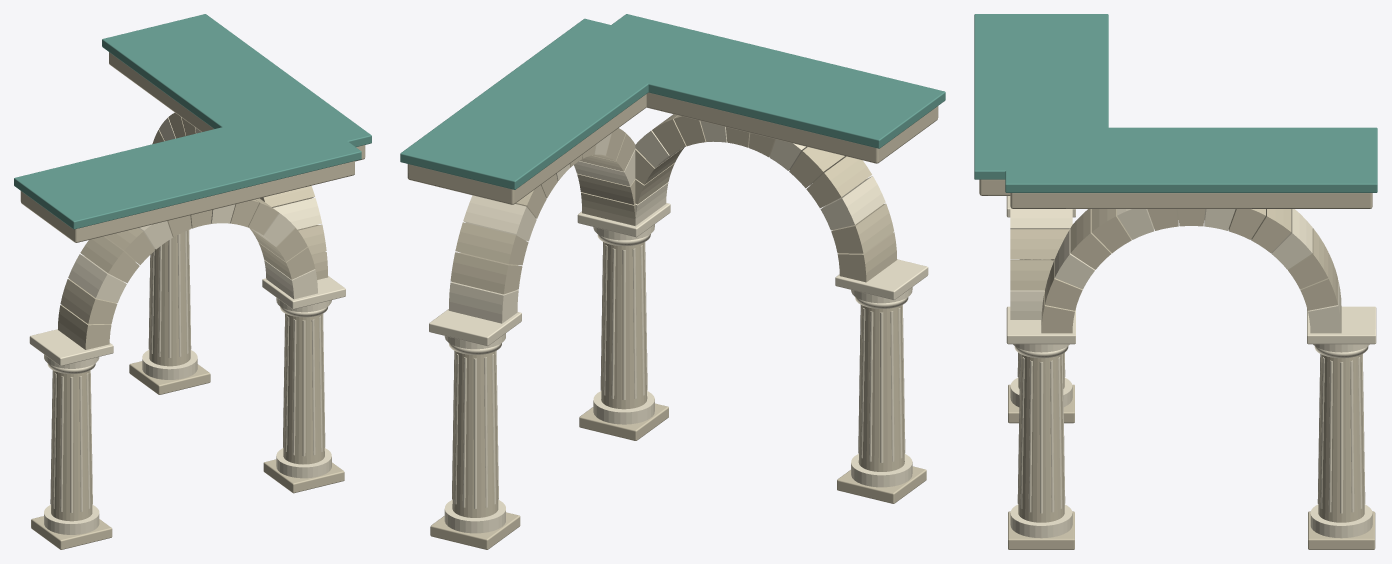
The model's file is fantasy-bathhouse-and-thermal-sanctuary-fantasy-bathho-3372f707__29431.glb.
3 renders of one model, left to right at view 1: azimuth 30°, elevation 25°; view 2: azimuth 150°, elevation 25°; view 3: azimuth 270°, elevation 25°, orthographic. The views are drawn at different scales.
Parts seen in each view (by area): view 1: fantasy-bathhouse-and-thermal-sanctuary-columned-corner-bay_ (×3); view 2: fantasy-bathhouse-and-thermal-sanctuary-columned-corner-bay_ (×3); view 3: fantasy-bathhouse-and-thermal-sanctuary-columned-corner-bay_ (×3).
Boxes of the visible parts, x1,y1,x2,y2 form: fantasy-bathhouse-and-thermal-sanctuary-columned-corner-bay_ (×3): (14,14,371,549); fantasy-bathhouse-and-thermal-sanctuary-columned-corner-bay_ (×3): (400,14,945,549); fantasy-bathhouse-and-thermal-sanctuary-columned-corner-bay_ (×3): (974,14,1377,549).
Size of the model in its own units: 3.9 by 4.06 by 3.9.
